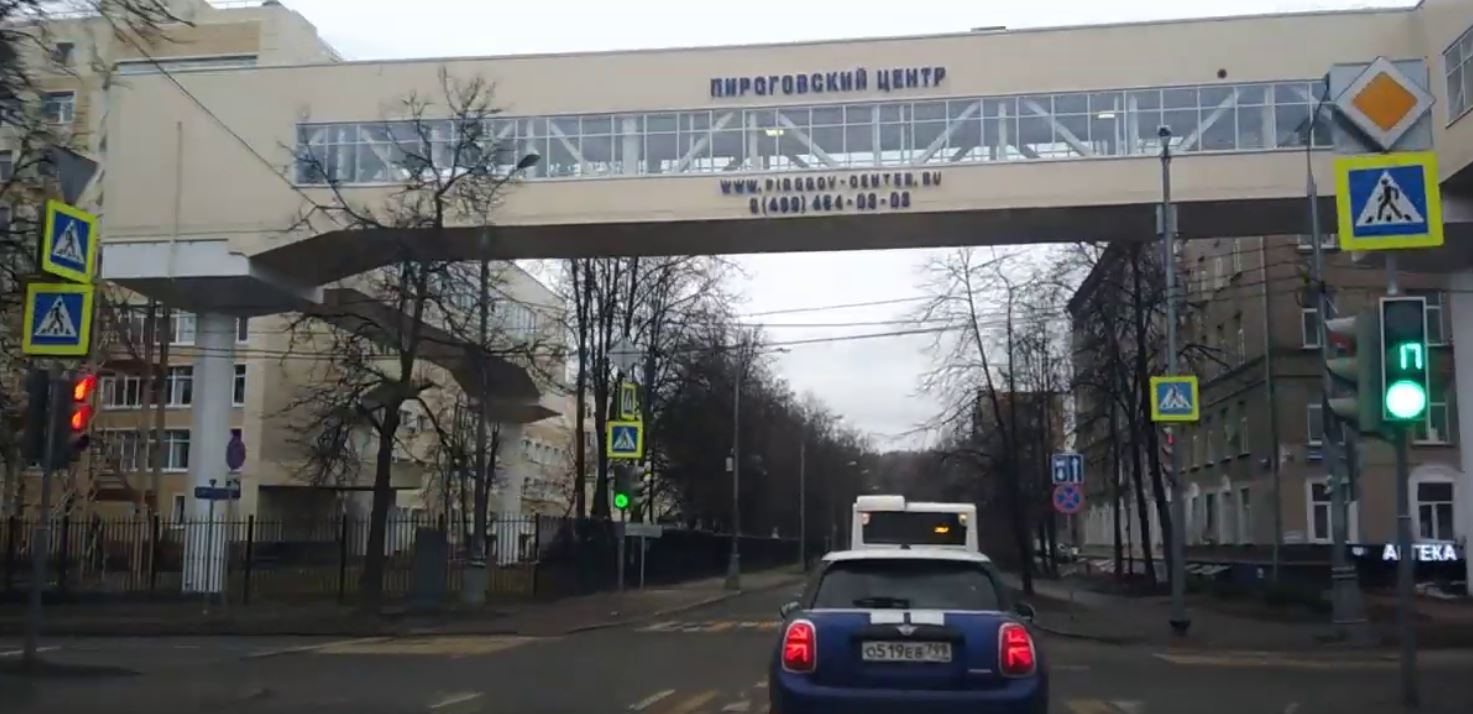Yaya Gecidi: (1347, 166, 1437, 243), (32, 295, 88, 341), (52, 215, 95, 272)
